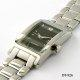watch: (12, 17, 69, 65)
